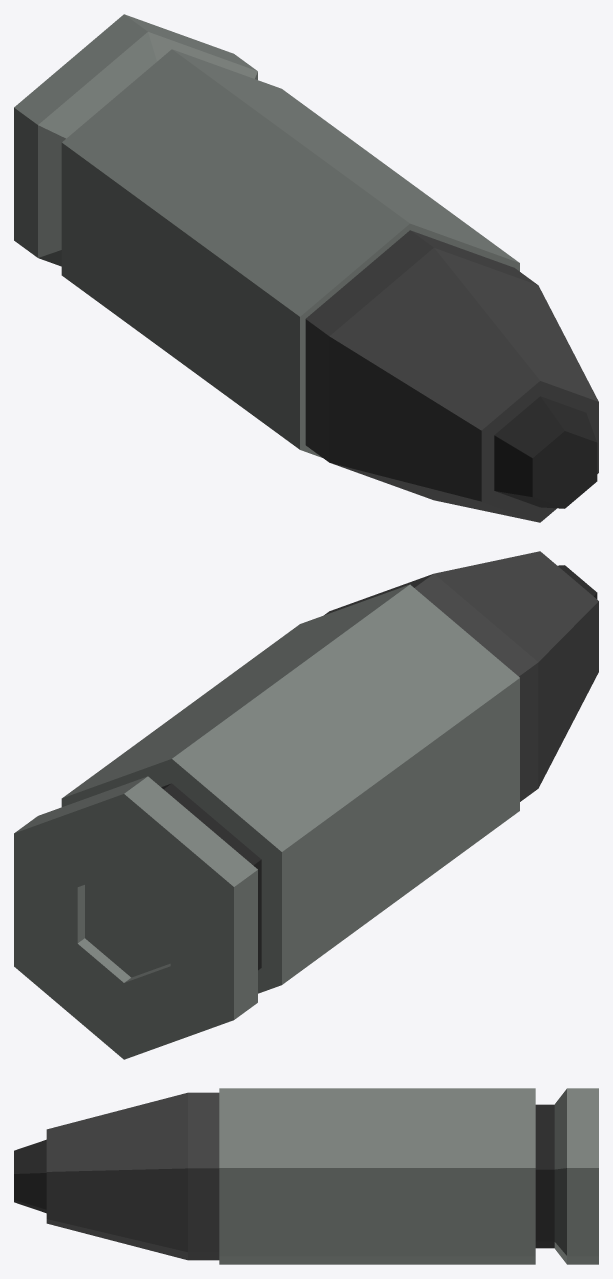
The model's file is Bullet_SMG_C.fbx.
3 renders of one model, top to bottom at view 1: azimuth 30°, elevation 25°; view 2: azimuth 150°, elevation 25°; view 3: azimuth 270°, elevation 25°, orthographic. The views are drawn at different scales.
Visible parts, largest first — view 1: Bullet_SMG_C, Bullet_SMG_C_Part; view 2: Bullet_SMG_C, Bullet_SMG_C_Part; view 3: Bullet_SMG_C, Bullet_SMG_C_Part.
Part boxes in pixels (x1,y1,x2,y2): Bullet_SMG_C: (14, 14, 519, 457); Bullet_SMG_C_Part: (305, 230, 598, 522); Bullet_SMG_C: (14, 584, 519, 1059); Bullet_SMG_C_Part: (324, 551, 598, 801); Bullet_SMG_C: (219, 1088, 598, 1264); Bullet_SMG_C_Part: (14, 1092, 219, 1260).
Size of the model in its own units: 0.0133 by 0.0154 by 0.0463.
